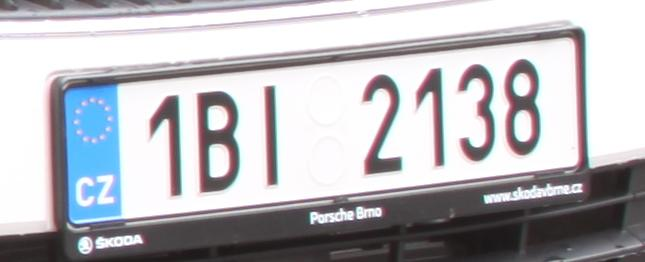1: (149, 90, 188, 198), (412, 65, 449, 171)
2: (358, 73, 405, 179)
3: (453, 63, 499, 166)
8: (504, 58, 543, 157)
B: (194, 86, 247, 196)
I: (256, 82, 286, 189)
